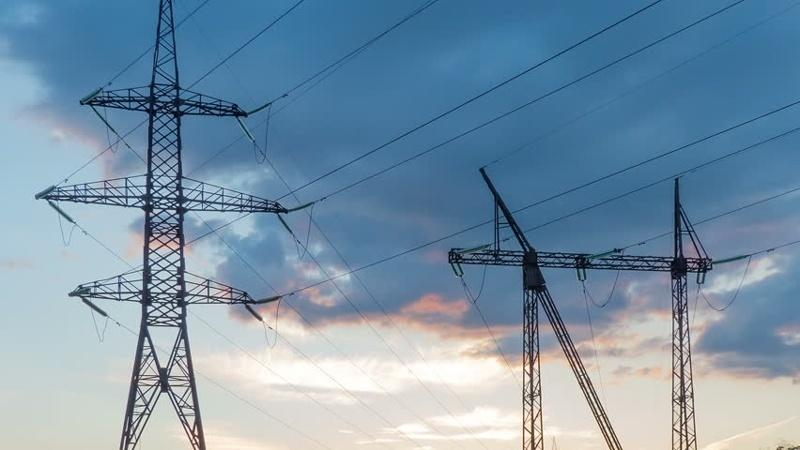power_tower: (48, 2, 274, 444), (445, 155, 751, 444)
